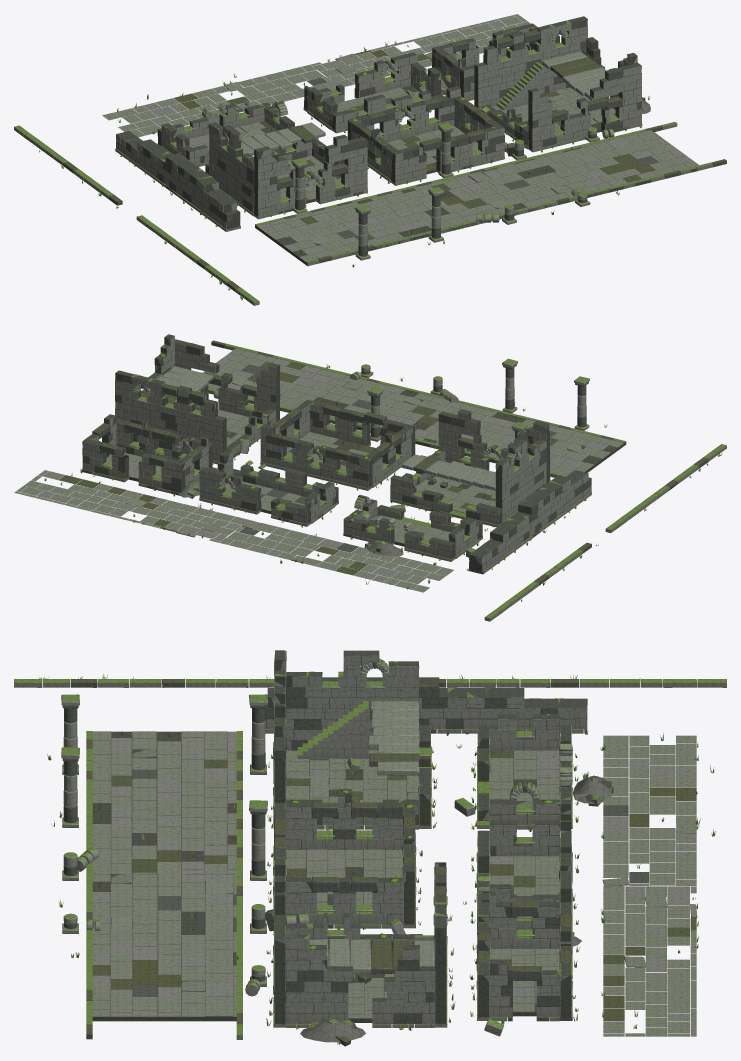
File: ruin_city_west.glb
3 views of the same model, one above another, from view 1: azimuth 30°, elevation 25°; view 2: azimuth 150°, elevation 25°; view 3: azimuth 270°, elevation 25° (orthographic). The views are drawn at different scales.
Visible parts, largest first — view 1: ruin_city_west.001; view 2: ruin_city_west.001; view 3: ruin_city_west.001.
Boxes of the visible parts, box(x1,y1,x2,y2) form: ruin_city_west.001: box(14, 14, 726, 305); ruin_city_west.001: box(14, 334, 726, 621); ruin_city_west.001: box(14, 650, 726, 1046).
Size of what is drawn, in the model's own units: 55.82 by 7.21 by 45.53.
Materials: 9 (9 with a texture image).
